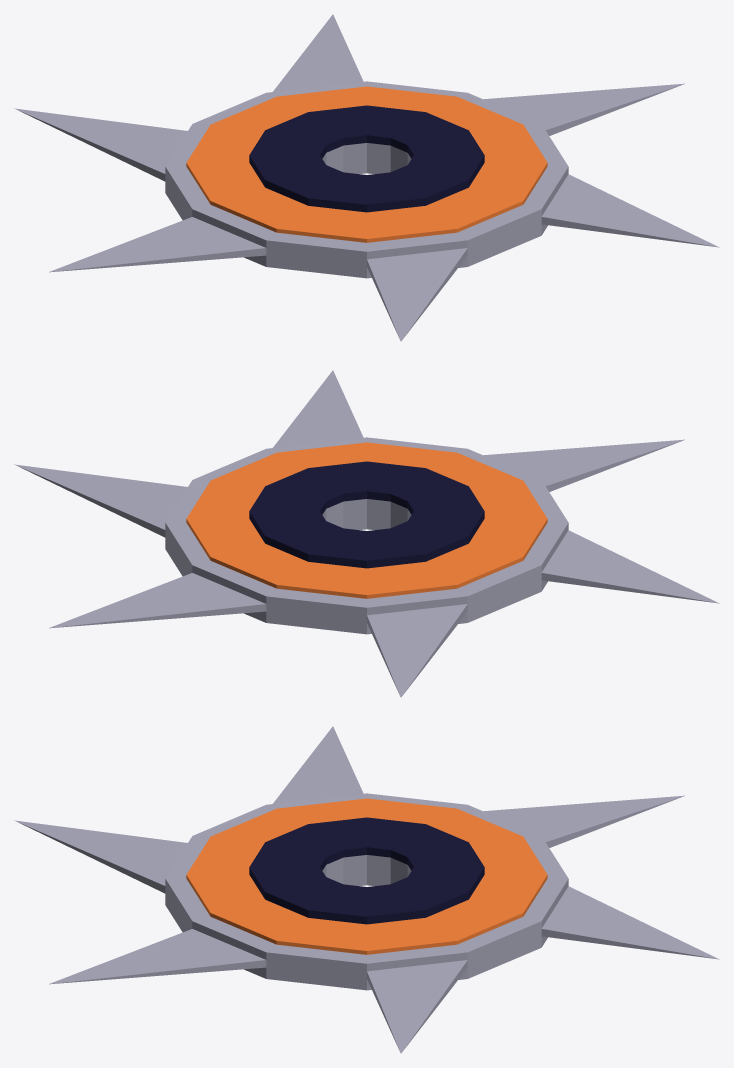
Rendered from slimeobj_cutter.fbx.
3 views of the same model, one above another, from view 1: azimuth 30°, elevation 25°; view 2: azimuth 150°, elevation 25°; view 3: azimuth 270°, elevation 25° (orthographic).
Visible parts, largest first — view 1: 円; view 2: 円; view 3: 円.
Boxes of the visible parts, bbox=[...] form: 円: bbox=[14, 14, 719, 341]; 円: bbox=[14, 370, 719, 697]; 円: bbox=[14, 726, 719, 1053].
Bounding box in the file's own units: 462 × 25 × 420.
